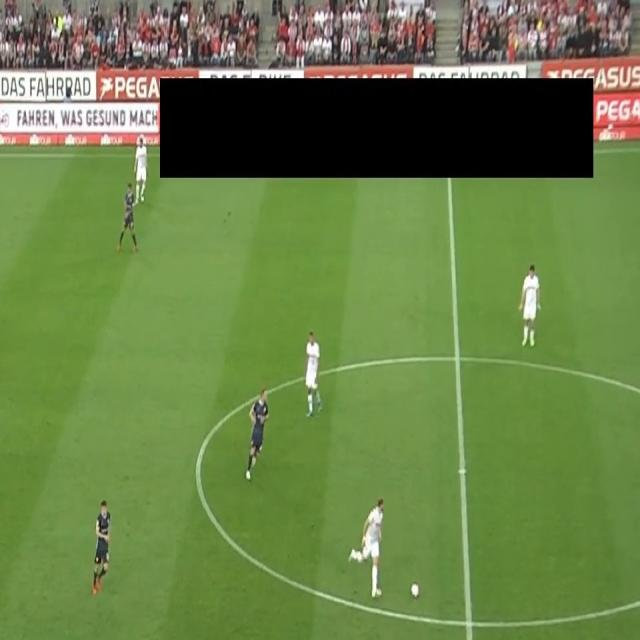ball: (410, 581, 421, 601)
